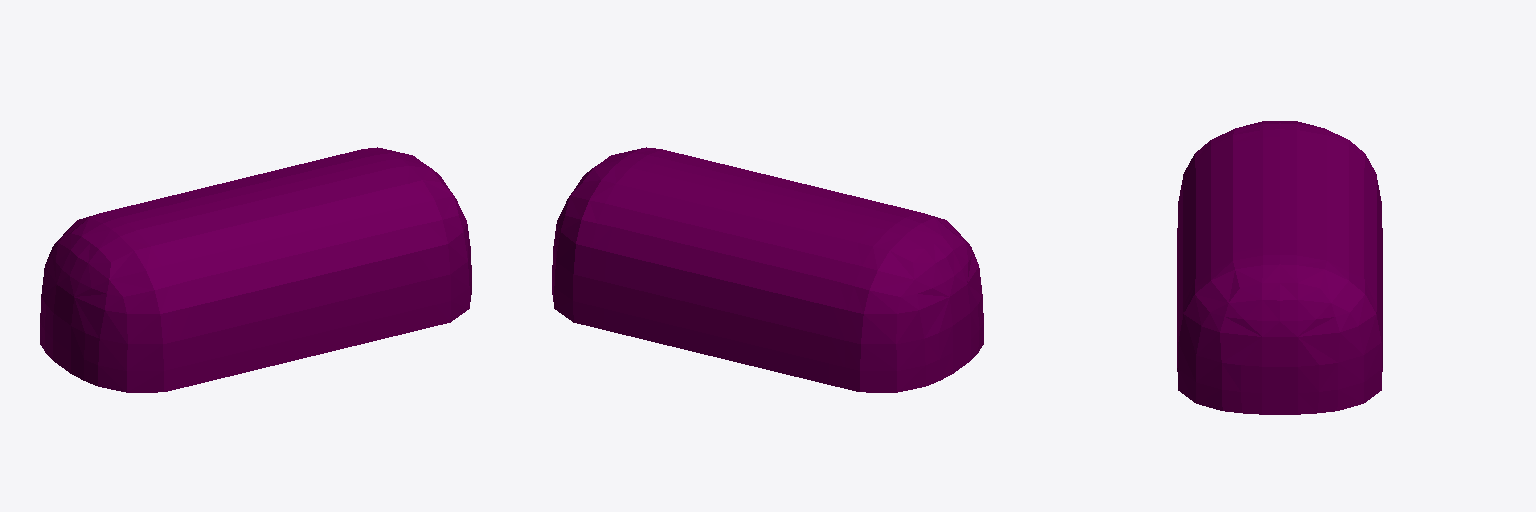
File: note_hopo.obj
3 views of the same model, side by side, from view 1: azimuth 30°, elevation 25°; view 2: azimuth 150°, elevation 25°; view 3: azimuth 270°, elevation 25° (orthographic).
Visible parts, largest first — view 1: Notes.012; view 2: Notes.012; view 3: Notes.012.
Boxes of the visible parts, x1,y1,x2,y2 form: Notes.012: [40, 147, 471, 392]; Notes.012: [552, 147, 983, 392]; Notes.012: [1177, 121, 1382, 414].
Size of the model in its own units: 0.546 by 0.1723 by 0.2501.